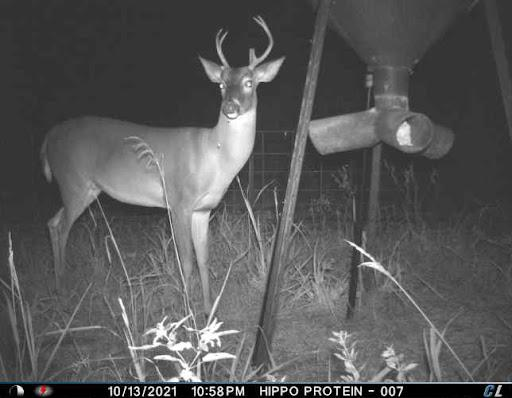Deer: (28, 14, 285, 332)
